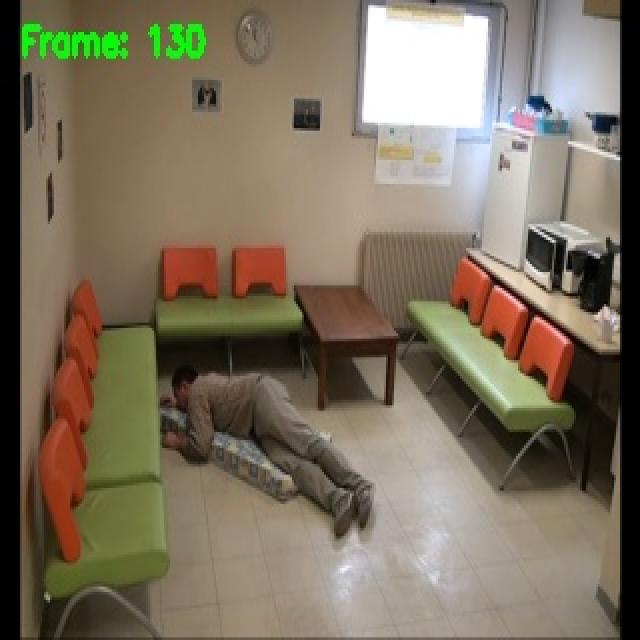Fall-Detected: (160, 360, 376, 538)
